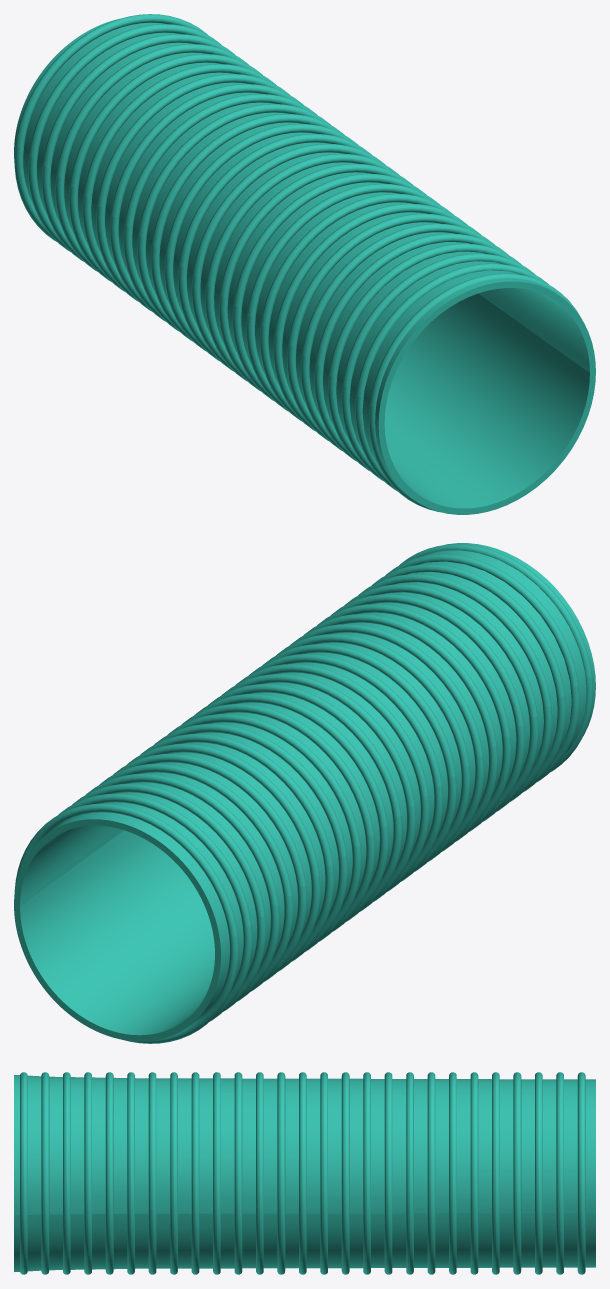
Rendered from tdp.fbx.
3 views of the same model, one above another, from view 1: azimuth 30°, elevation 25°; view 2: azimuth 150°, elevation 25°; view 3: azimuth 270°, elevation 25° (orthographic). The views are drawn at different scales.
Parts seen in each view (by area): view 1: Objeto_28, Objeto_21, Objeto_13, Objeto_26, Objeto_8, Objeto_24, Objeto_22, Objeto_11, Objeto_23, Objeto_16, Objeto_27, Objeto_15 (+16 smaller); view 2: Objeto_28, Objeto_27, Objeto_26, Objeto_24, Objeto_16, Objeto_21, Objeto_8, Objeto_13, Objeto_20, Objeto_11, Objeto_23, Objeto_10 (+16 smaller); view 3: Objeto_28, Objeto_7, Objeto_9, Objeto_11, Objeto_18, Objeto_20, Objeto_22, Objeto_2, Objeto_5, Objeto_13, Objeto_16, Objeto_24 (+16 smaller).
Boxes of the visible parts, x1=… form: Objeto_28: x1=14, y1=19, x2=595, y2=514; Objeto_21: x1=96, y1=74, x2=290, y2=301; Objeto_13: x1=205, y1=153, x2=398, y2=381; Objeto_26: x1=28, y1=24, x2=221, y2=251; Objeto_8: x1=273, y1=203, x2=467, y2=431; Objeto_24: x1=55, y1=44, x2=249, y2=271; Objeto_22: x1=82, y1=64, x2=276, y2=291; Objeto_11: x1=232, y1=173, x2=426, y2=401; Objeto_23: x1=69, y1=54, x2=262, y2=281; Objeto_16: x1=164, y1=124, x2=357, y2=351; Objeto_27: x1=14, y1=14, x2=208, y2=241; Objeto_15: x1=178, y1=133, x2=371, y2=361; Objeto_28: x1=14, y1=543, x2=595, y2=1041; Objeto_27: x1=14, y1=803, x2=238, y2=1043; Objeto_26: x1=50, y1=793, x2=252, y2=1023; Objeto_24: x1=86, y1=773, x2=279, y2=1001; Objeto_16: x1=194, y1=694, x2=388, y2=921; Objeto_21: x1=127, y1=743, x2=320, y2=971; Objeto_8: x1=303, y1=614, x2=497, y2=841; Objeto_13: x1=235, y1=664, x2=429, y2=891; Objeto_20: x1=140, y1=733, x2=333, y2=961; Objeto_11: x1=262, y1=644, x2=456, y2=871; Objeto_23: x1=99, y1=763, x2=292, y2=991; Objeto_10: x1=276, y1=634, x2=470, y2=861; Objeto_28: x1=14, y1=1075, x2=595, y2=1271; Objeto_7: x1=148, y1=1072, x2=156, y2=1274; Objeto_9: x1=191, y1=1072, x2=199, y2=1274; Objeto_11: x1=234, y1=1072, x2=242, y2=1274; Objeto_18: x1=384, y1=1072, x2=392, y2=1274; Objeto_20: x1=427, y1=1072, x2=435, y2=1274; Objeto_22: x1=470, y1=1072, x2=478, y2=1274; Objeto_2: x1=41, y1=1072, x2=49, y2=1274; Objeto_5: x1=105, y1=1072, x2=113, y2=1274; Objeto_13: x1=277, y1=1072, x2=285, y2=1274; Objeto_16: x1=341, y1=1072, x2=349, y2=1274; Objeto_24: x1=513, y1=1072, x2=521, y2=1274.
Size of the model in its own units: 142 by 142 by 409.
